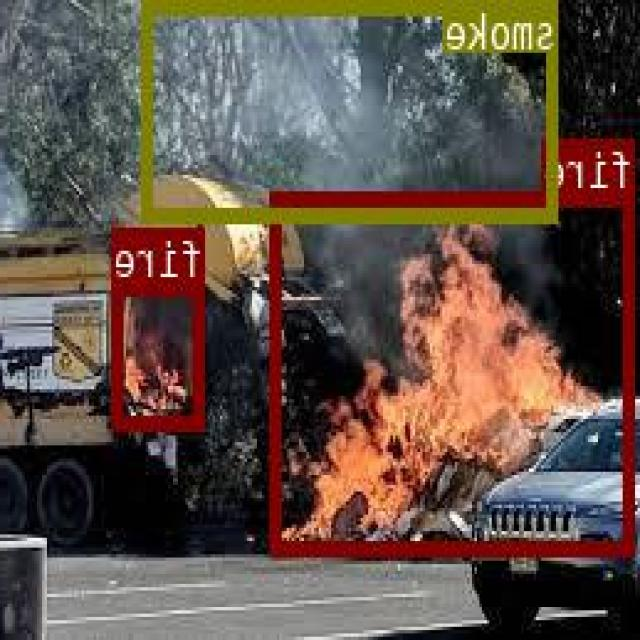fire: (272, 188, 638, 552), (115, 280, 206, 427)
smoke: (145, 0, 560, 218)
